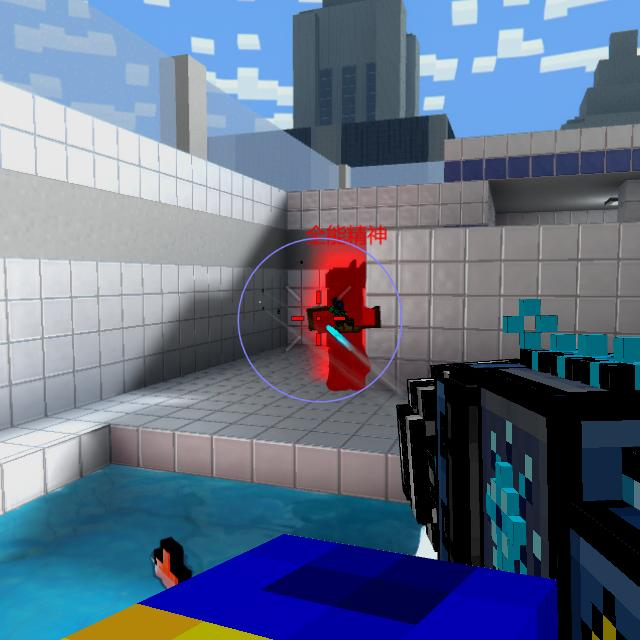Enemy: (306, 268, 382, 391)
